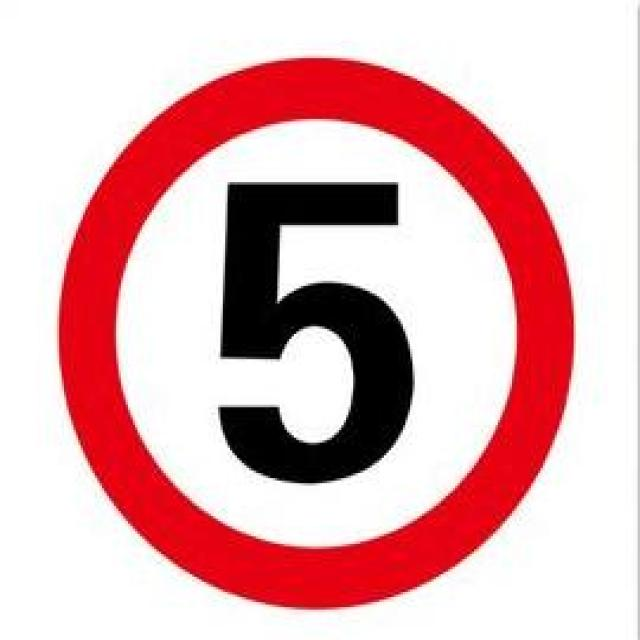speed limit 10: (58, 57, 576, 605)
